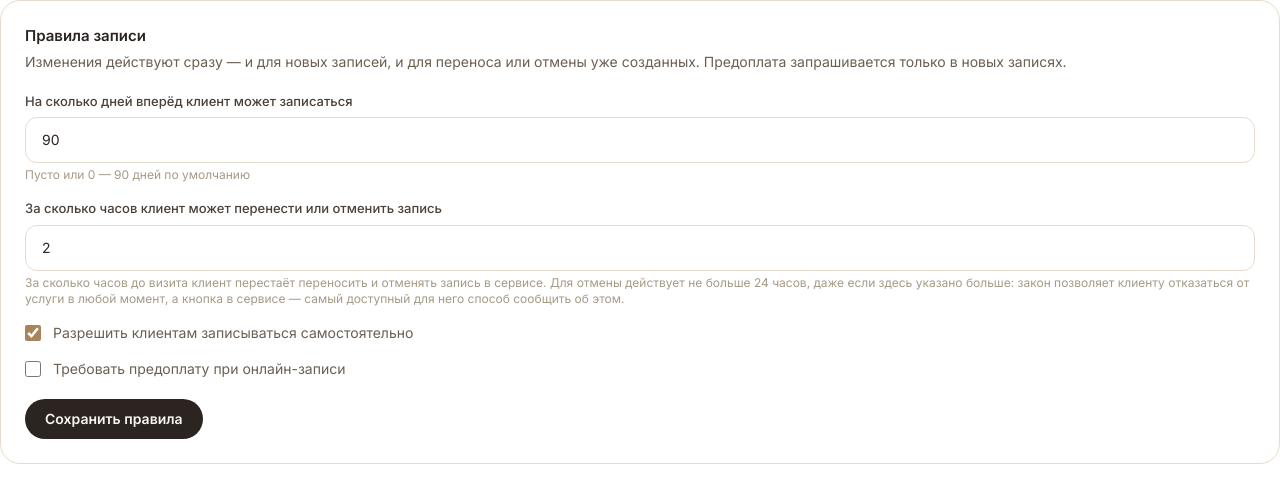
Scenario: BookingRulesSection — ARCHITECTURE_CYCLE32.md §32.8 › V32-16: cleared window -> no key; cleared horizon -> 0; horizon 400 -> error, no request
Step 1. Clear the number field labelled "За сколько часов клиент может перенести или отменить запись" → (640, 248), box [25,224,1255,270]
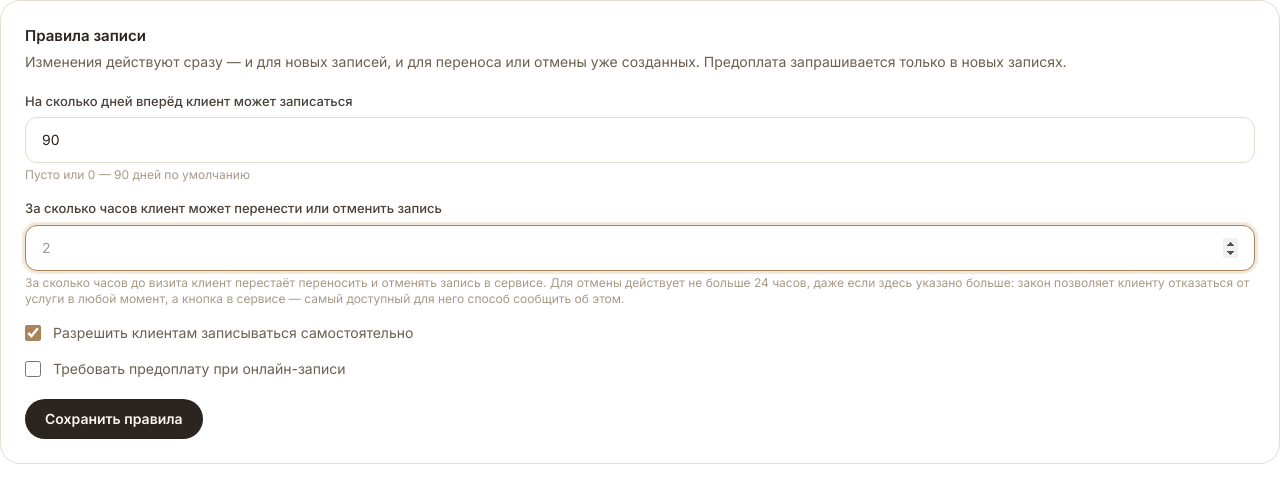
Step 2. Clear the number field labelled "На сколько дней вперёд клиент может записаться" → (640, 140), box [25,117,1255,163]
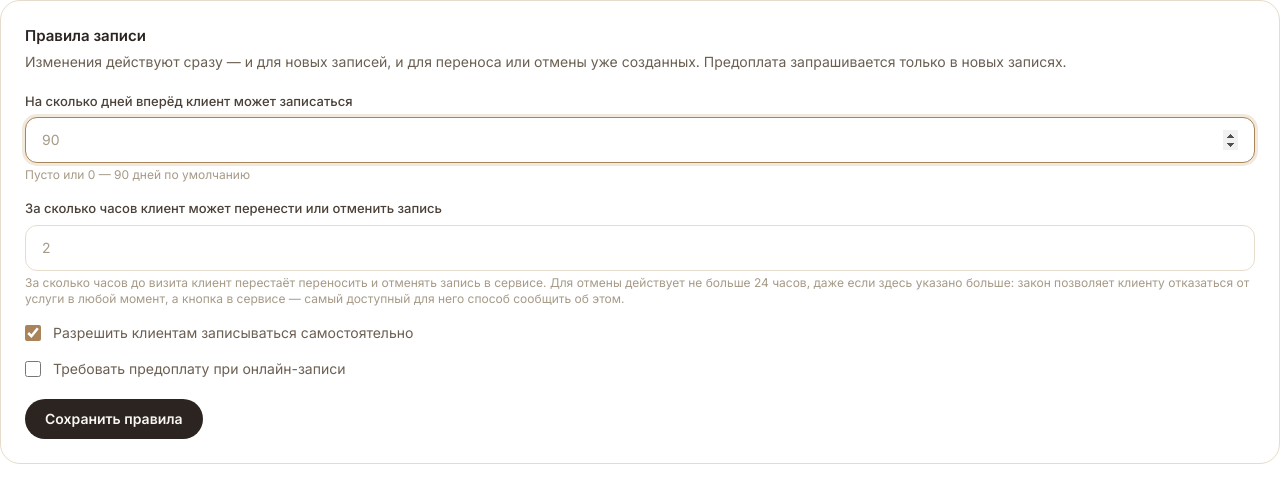
Step 3. Click the button "Сохранить правила" → (114, 418), box [25,398,203,438]
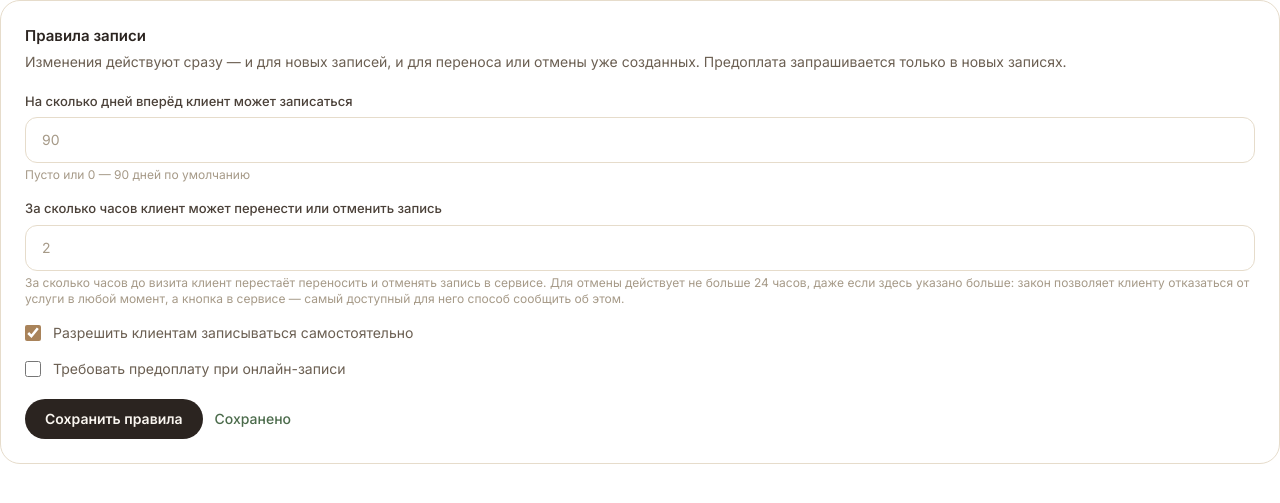
Step 4. Type "400" into the number field labelled "На сколько дней вперёд клиент может записаться" → (640, 140), box [25,117,1255,163]
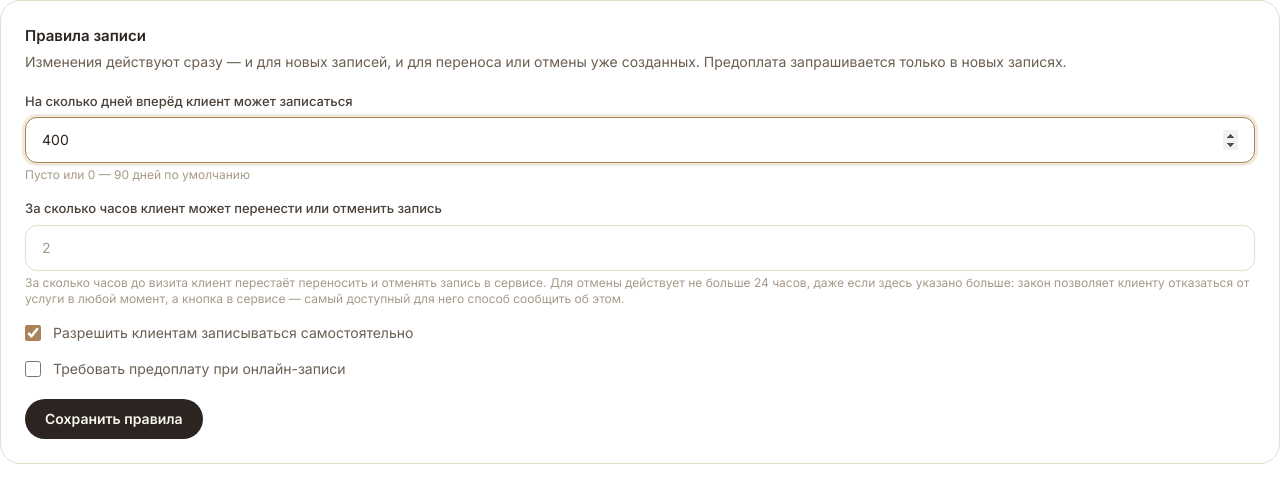
Step 5. Click the button "Сохранить правила" → (114, 418), box [25,398,203,438]
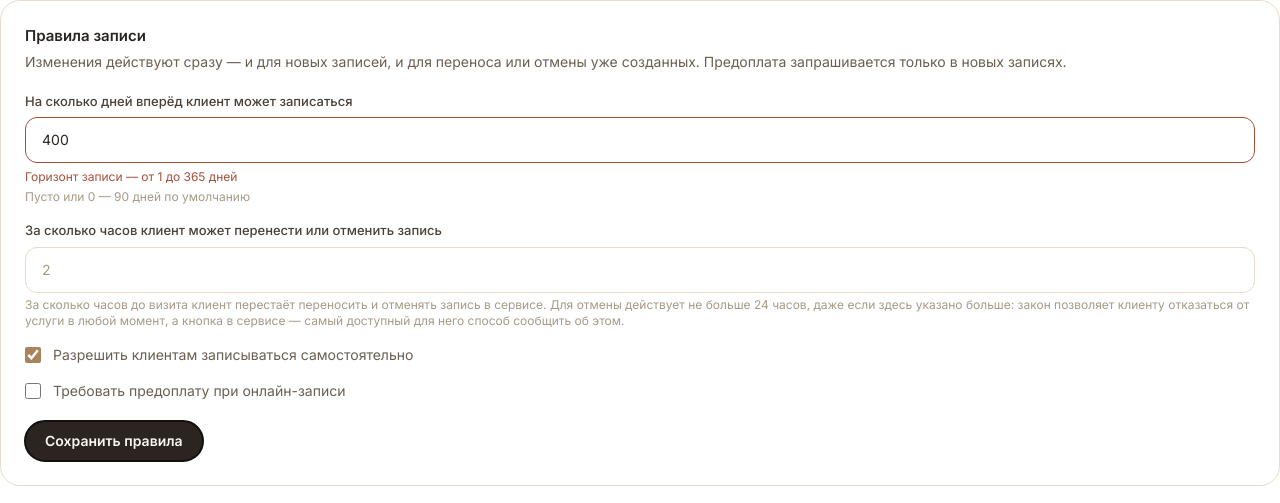
Check: the text "Горизонт записи — от 1 до 365 дней" is shown, box [25,169,237,184]
